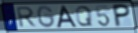5: (94, 5, 111, 28)
A: (56, 4, 79, 29)
G: (36, 5, 56, 29)
P: (113, 4, 132, 29)
Q: (75, 5, 94, 28)
R: (16, 6, 38, 29)
